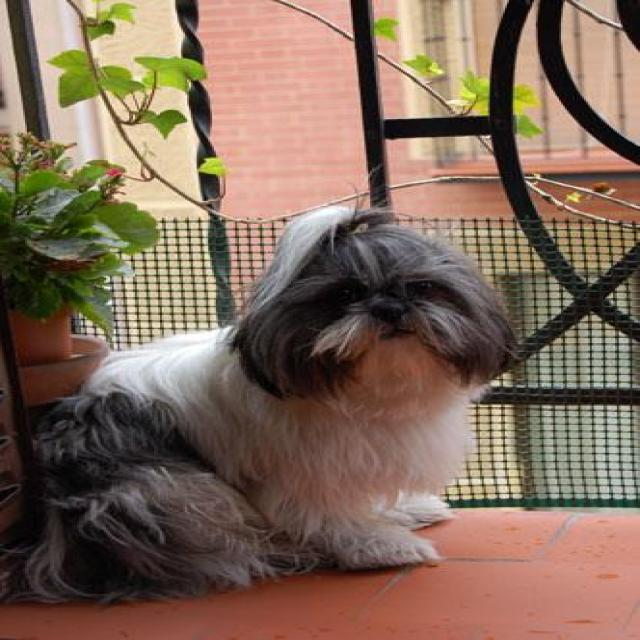shih_tzu: (11, 200, 518, 598)
